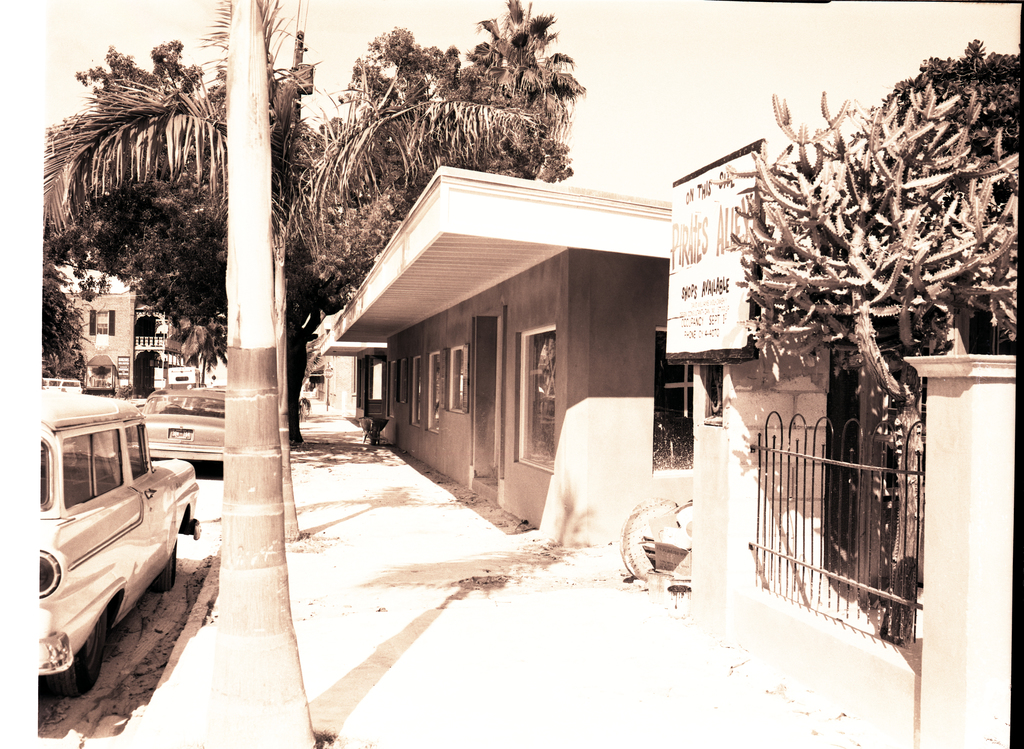Car: (29, 373, 202, 695), (143, 385, 225, 458)
